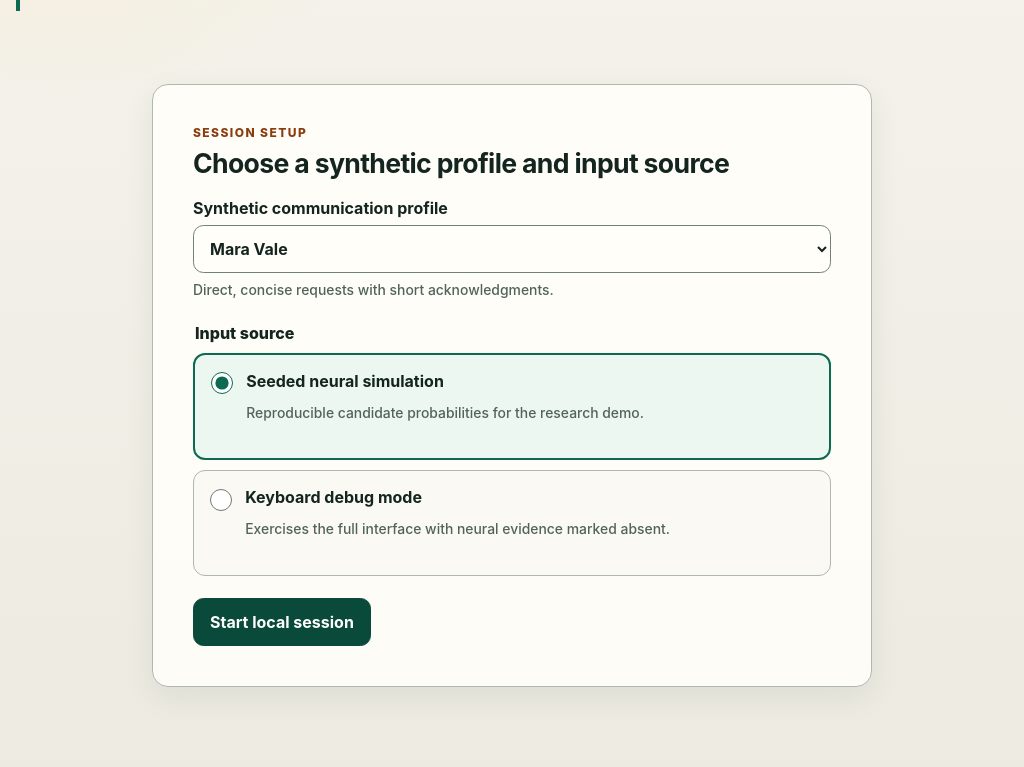
Test case: App › blocks language selection on simulated abstention while leaving repeat available
(page scrolled)
Click the button "Start local session".
click(282, 622)  # box x1=193 y1=598 x2=371 y2=646
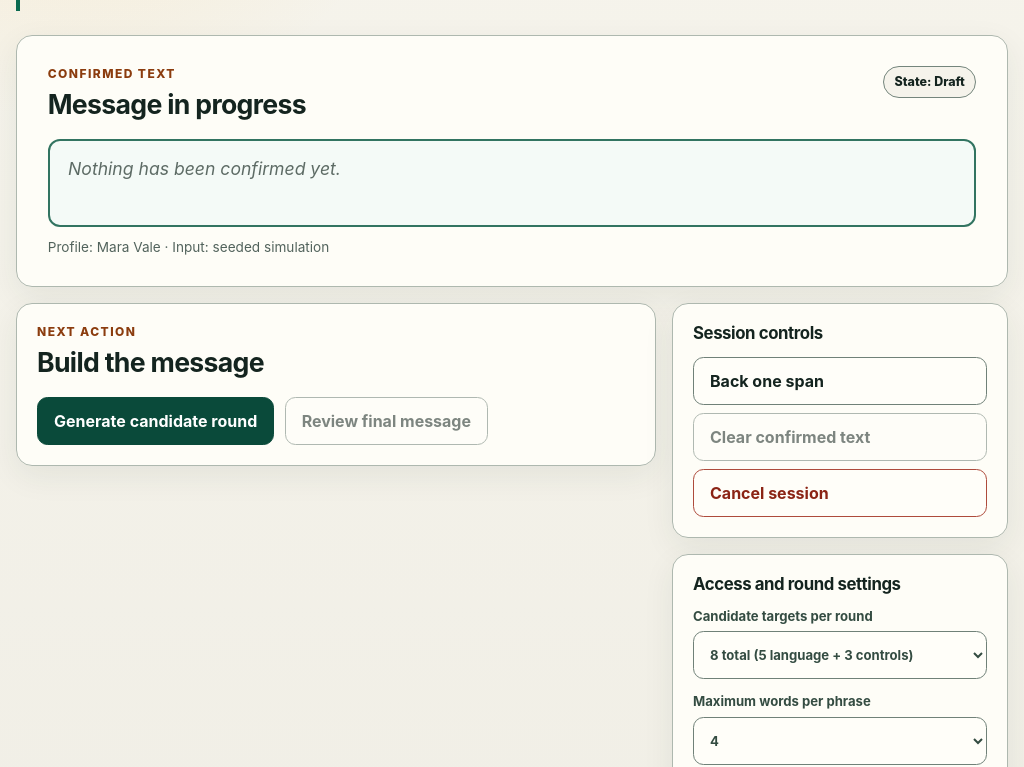
expect the heading "Message in progress" is shown: met, box x1=48 y1=90 x2=306 y2=119
Click the button "Generate candidate round".
click(156, 421)  # box x1=37 y1=397 x2=274 y2=445
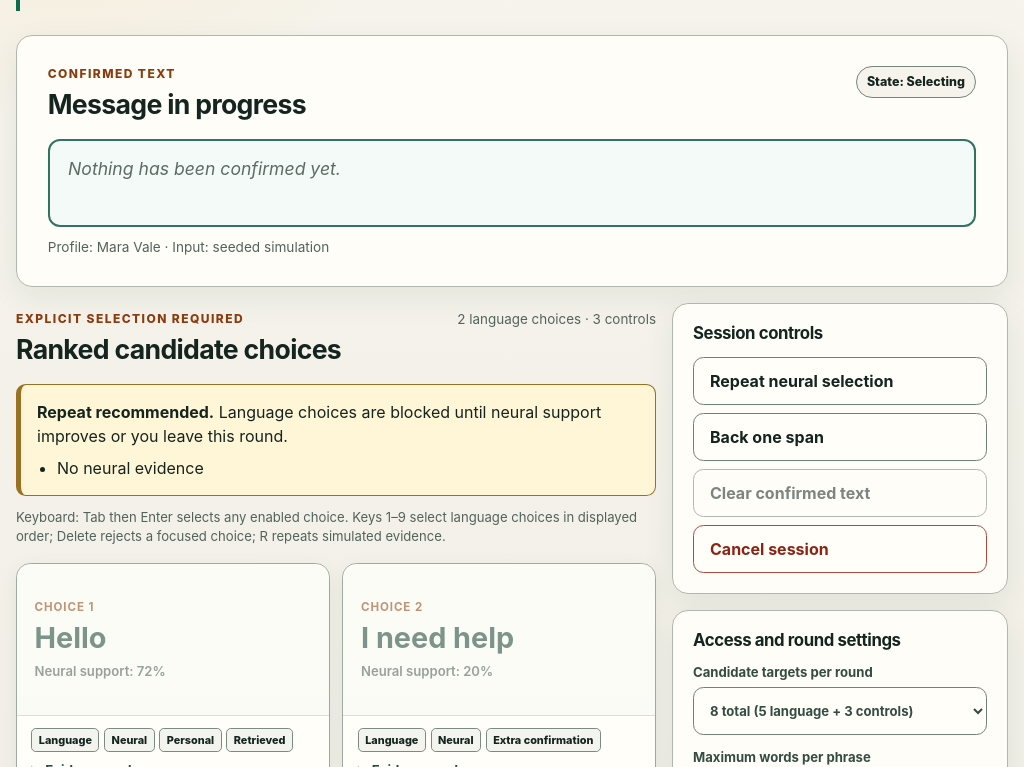
expect the text "Repeat recommended." is shown: met, box x1=37 y1=402 x2=214 y2=422
expect the button "Choice 1 Hello Neural support: 72%" is disabled: met, box x1=17 y1=564 x2=329 y2=716
expect the button "Repeat neural selection" is enabled: met, box x1=693 y1=357 x2=987 y2=405
